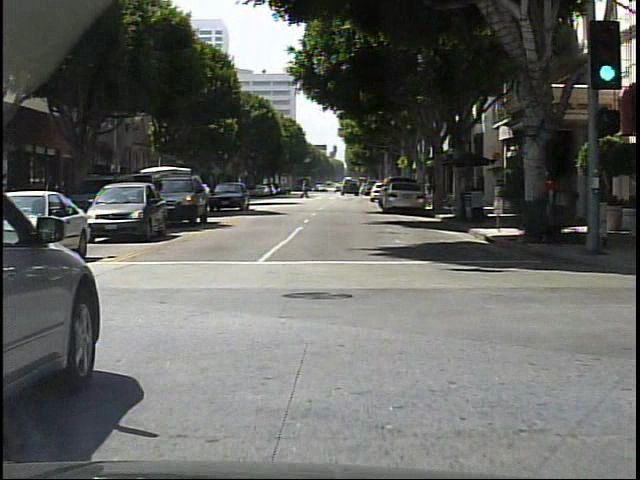person: (587, 158, 610, 246), (542, 171, 556, 233), (460, 171, 475, 220), (298, 179, 308, 198)
